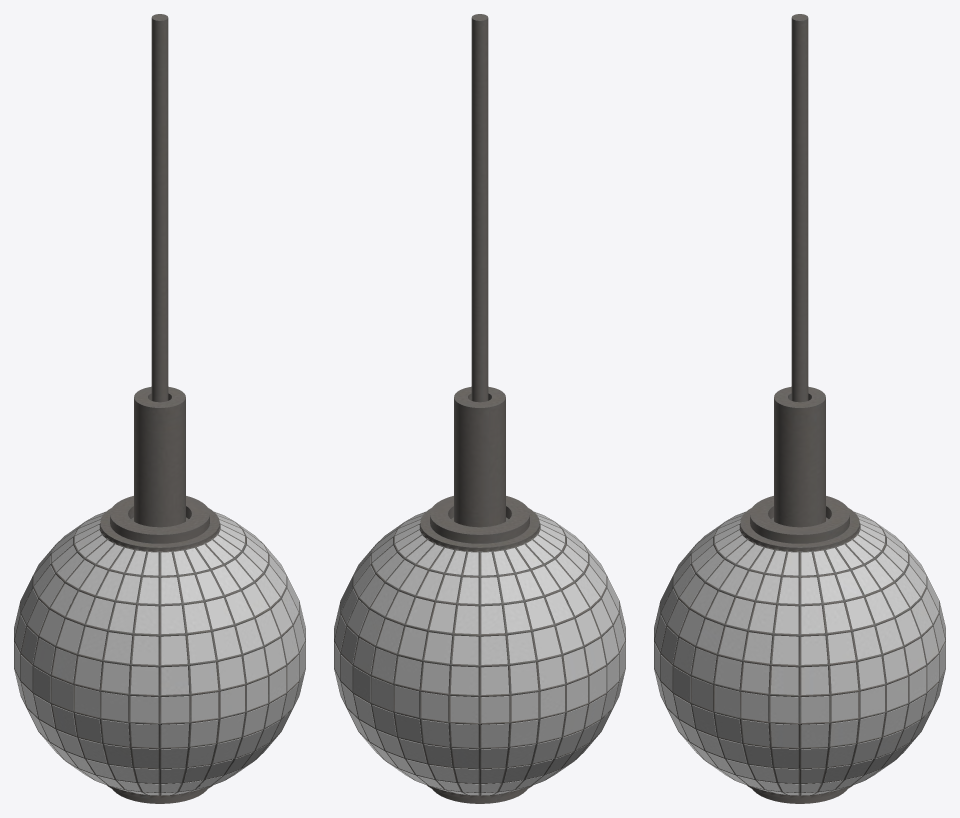
Rendered from uploads_files_1946232_bola+de+espelhos.fbx.
3 views of the same model, side by side, from view 1: azimuth 30°, elevation 25°; view 2: azimuth 150°, elevation 25°; view 3: azimuth 270°, elevation 25° (orthographic).
Visible parts, largest first — view 1: Mirror_Ball_1; view 2: Mirror_Ball_1; view 3: Mirror_Ball_1.
Boxes of the visible parts, x1,y1,x2,y2 form: Mirror_Ball_1: (14,14,305,803); Mirror_Ball_1: (334,14,625,803); Mirror_Ball_1: (654,14,945,803).
Size of the model in its own units: 201 by 578 by 200.
1 material, 1 textured.
